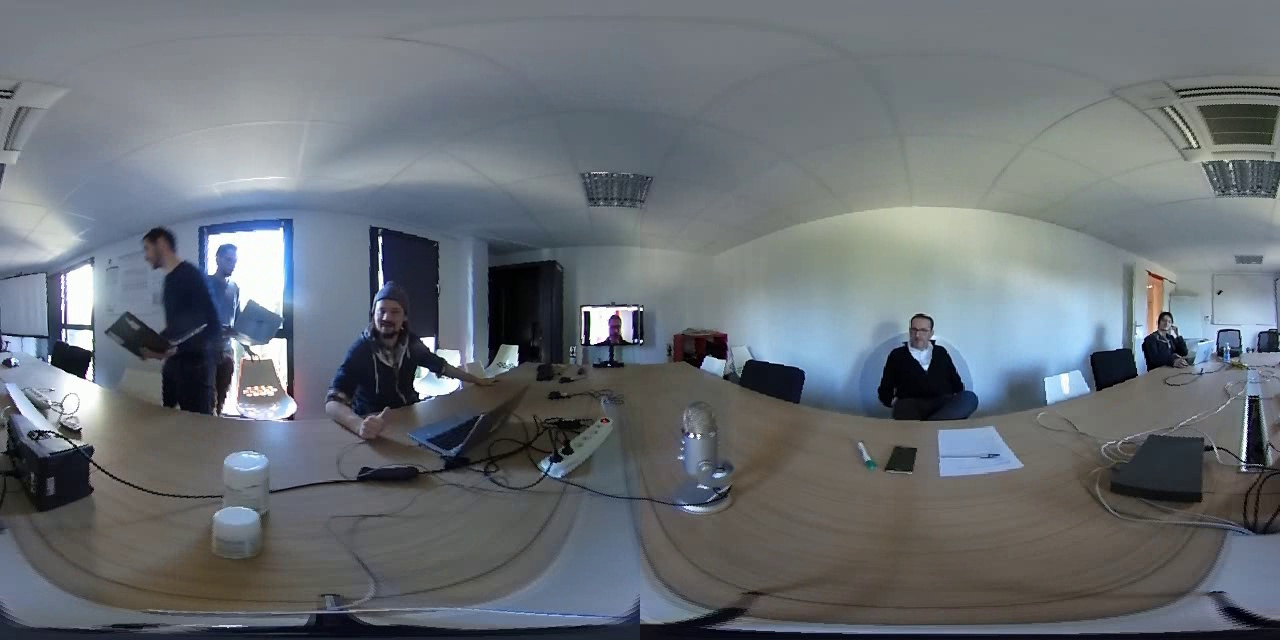person: (335, 276, 452, 424), (865, 291, 988, 428), (123, 212, 199, 364), (205, 218, 253, 341), (1147, 298, 1186, 374), (580, 304, 635, 340)
